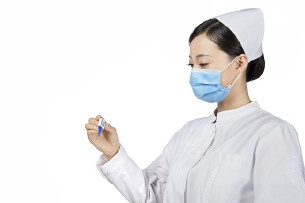Mask: (183, 49, 233, 99)
